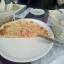pizza: (1, 20, 51, 39)
